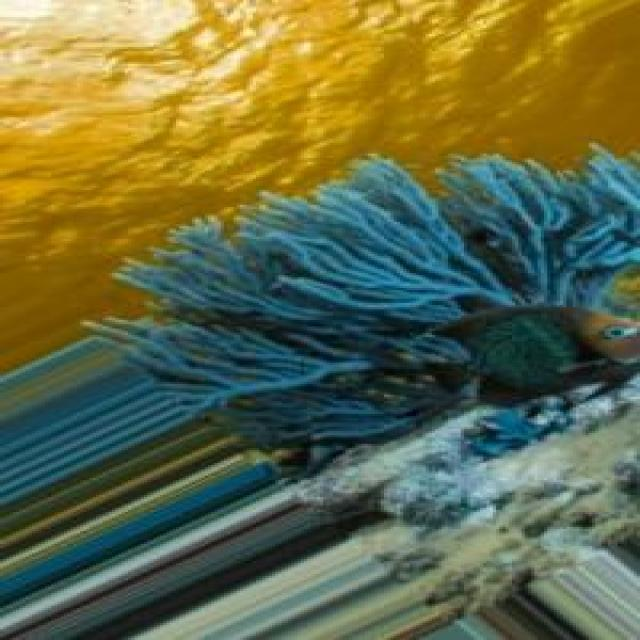Healthy: (97, 146, 640, 475)
